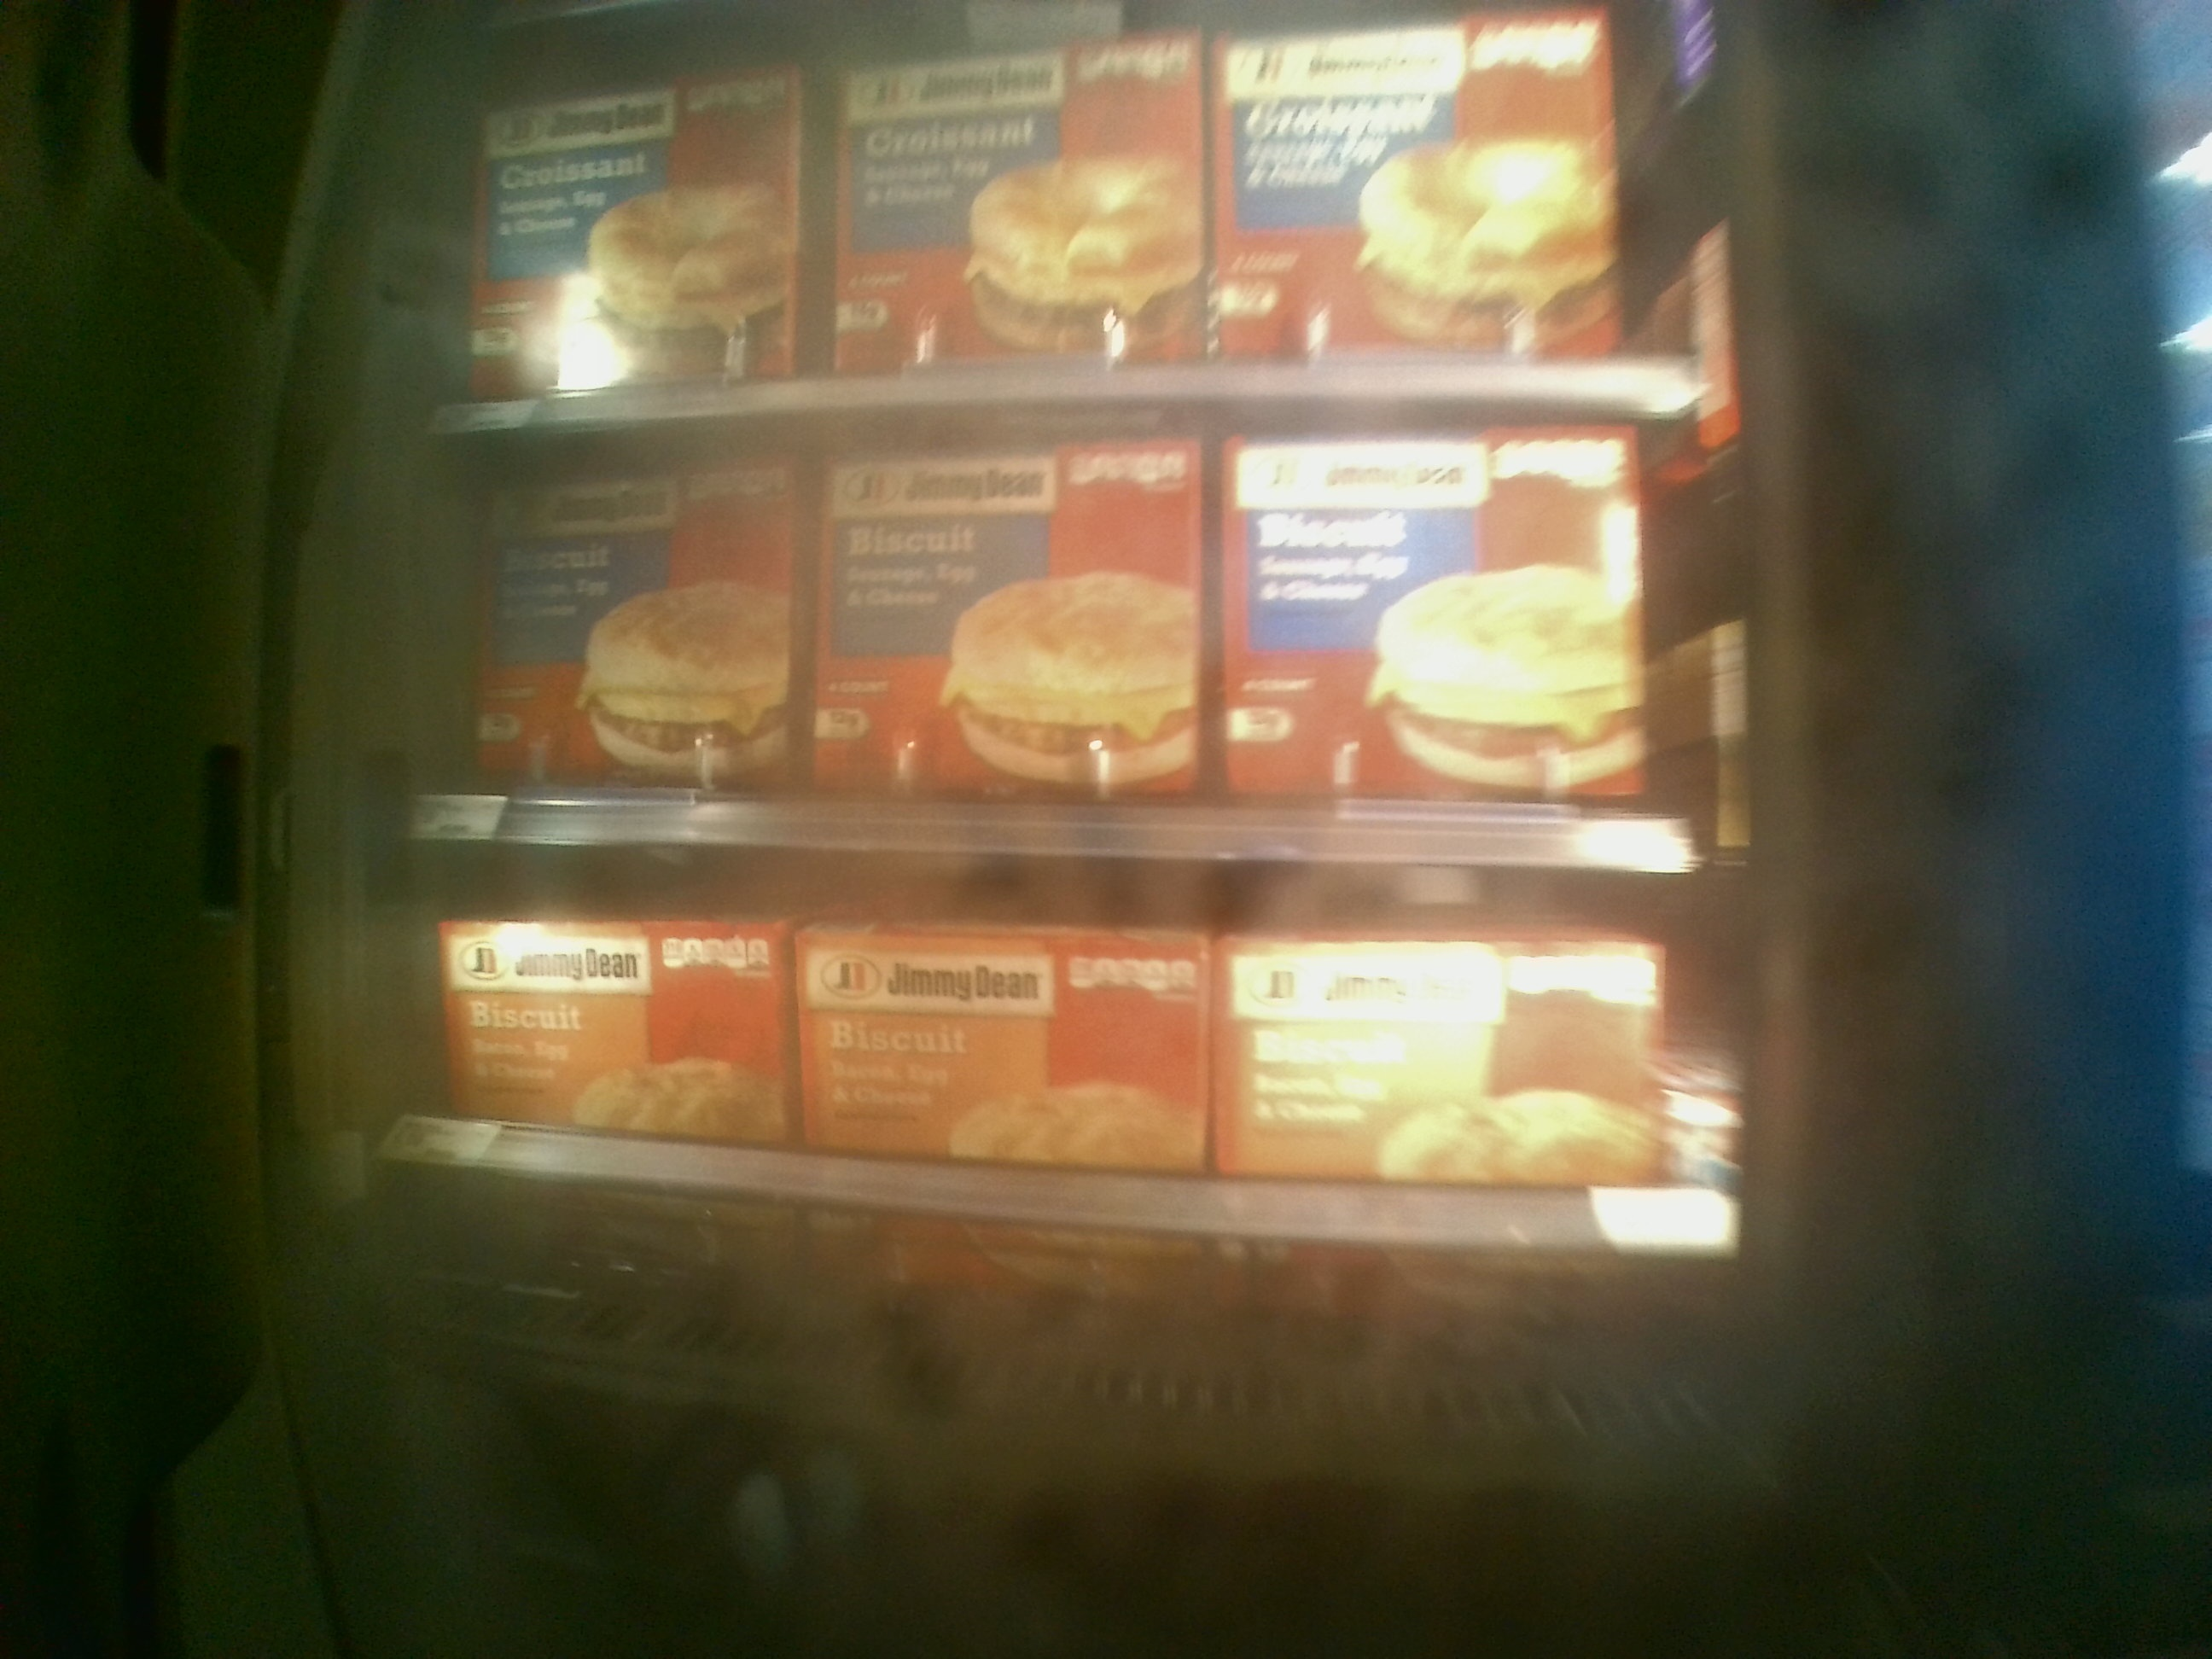shelf: (381, 836, 1719, 1406), (381, 401, 1731, 870)
